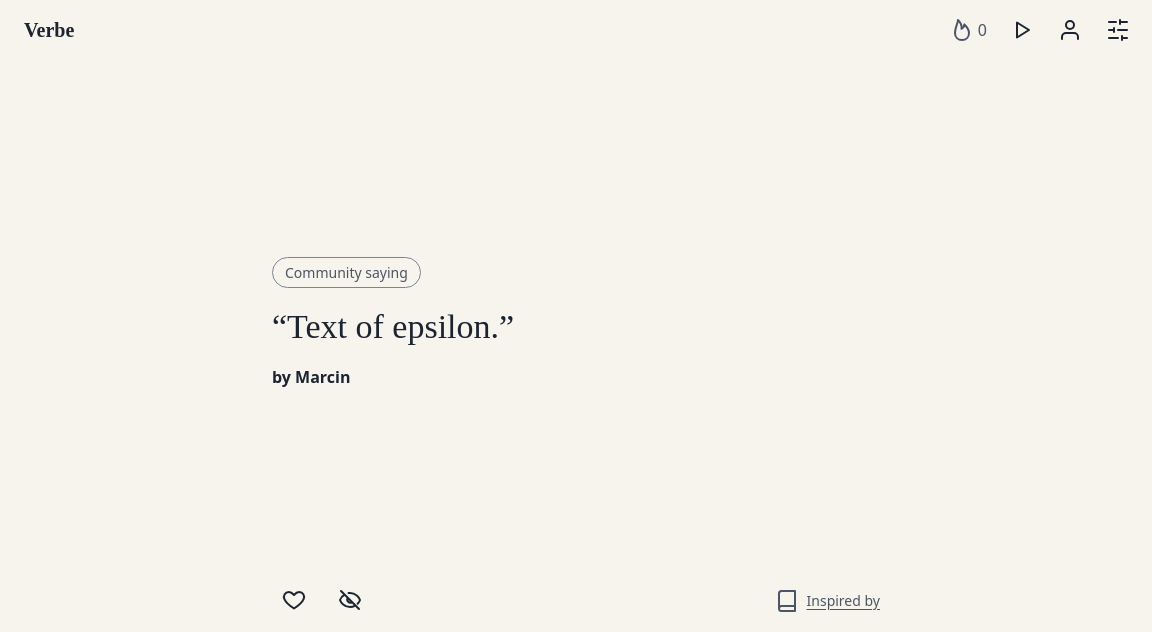
Test: your own quotes › bolds the author, apart from the source
Click the 2nd button named "Your profile" at (1070, 30), box [1048,8,1092,52]
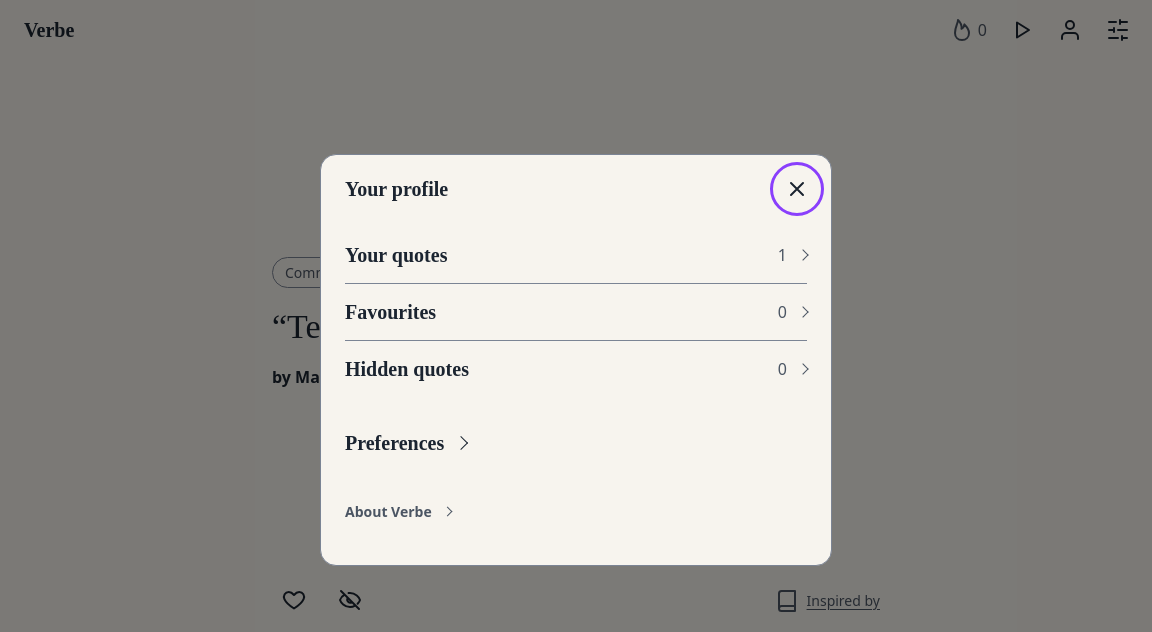
Click the button "Your quotes 1" at (396, 255), box [345,227,807,283]
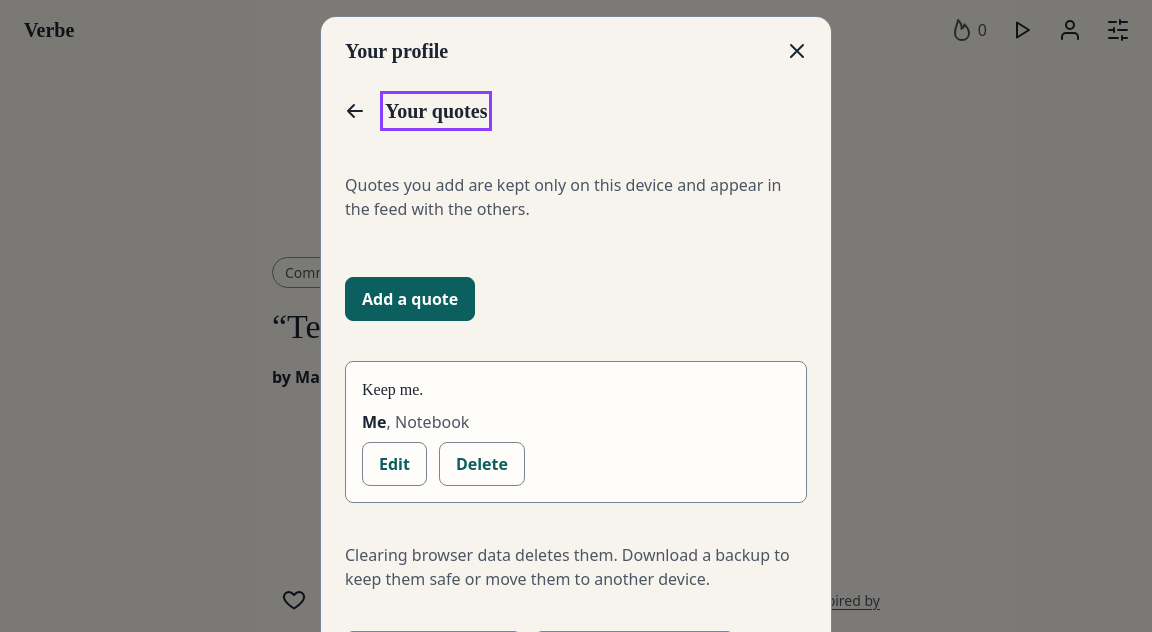
Check: the element showing "Me, Notebook" is shown, box [362,411,469,433]
